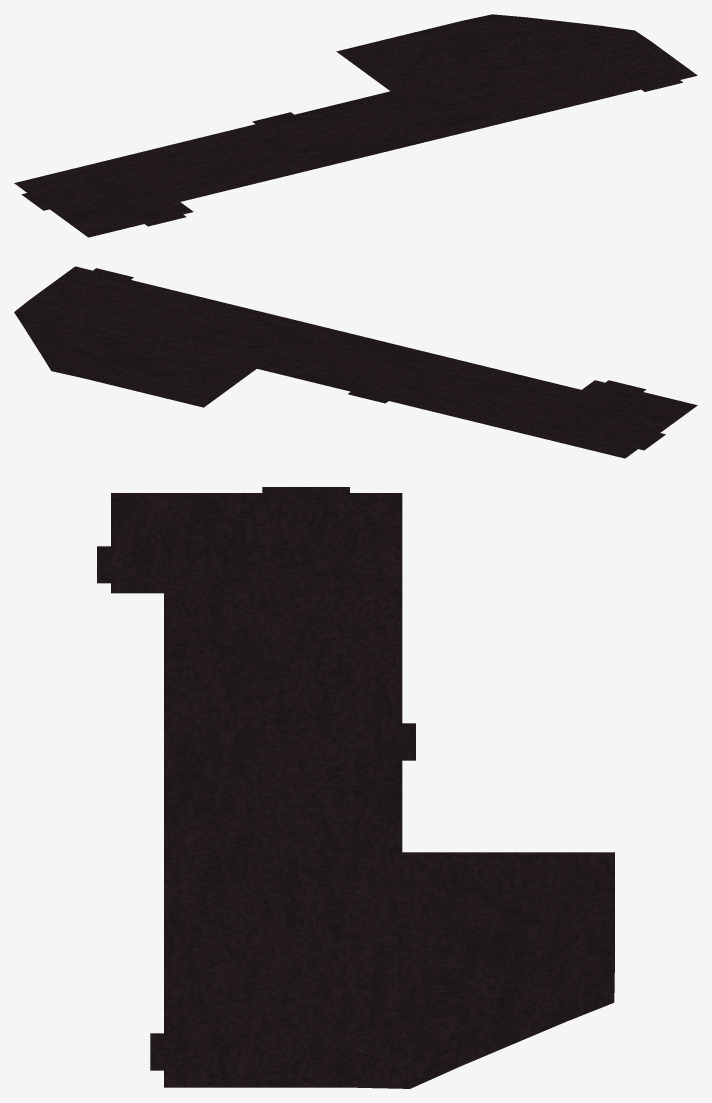
The model's file is living-room_0_0.floor.glb.
3 views of the same model, one above another, from view 1: azimuth 30°, elevation 25°; view 2: azimuth 150°, elevation 25°; view 3: azimuth 270°, elevation 25° (orthographic). The views are drawn at different scales.
Visible parts, largest first — view 1: living-room_0/0.floor.001; view 2: living-room_0/0.floor.001; view 3: living-room_0/0.floor.001.
Part boxes in pixels (x1,y1,x2,y2): living-room_0/0.floor.001: (14, 14, 697, 237); living-room_0/0.floor.001: (14, 266, 697, 458); living-room_0/0.floor.001: (97, 487, 614, 1088).
Bounding box in the file's own units: 13.37 × 0.0159 × 4.87.
Materials: 1 (1 with a texture image).
